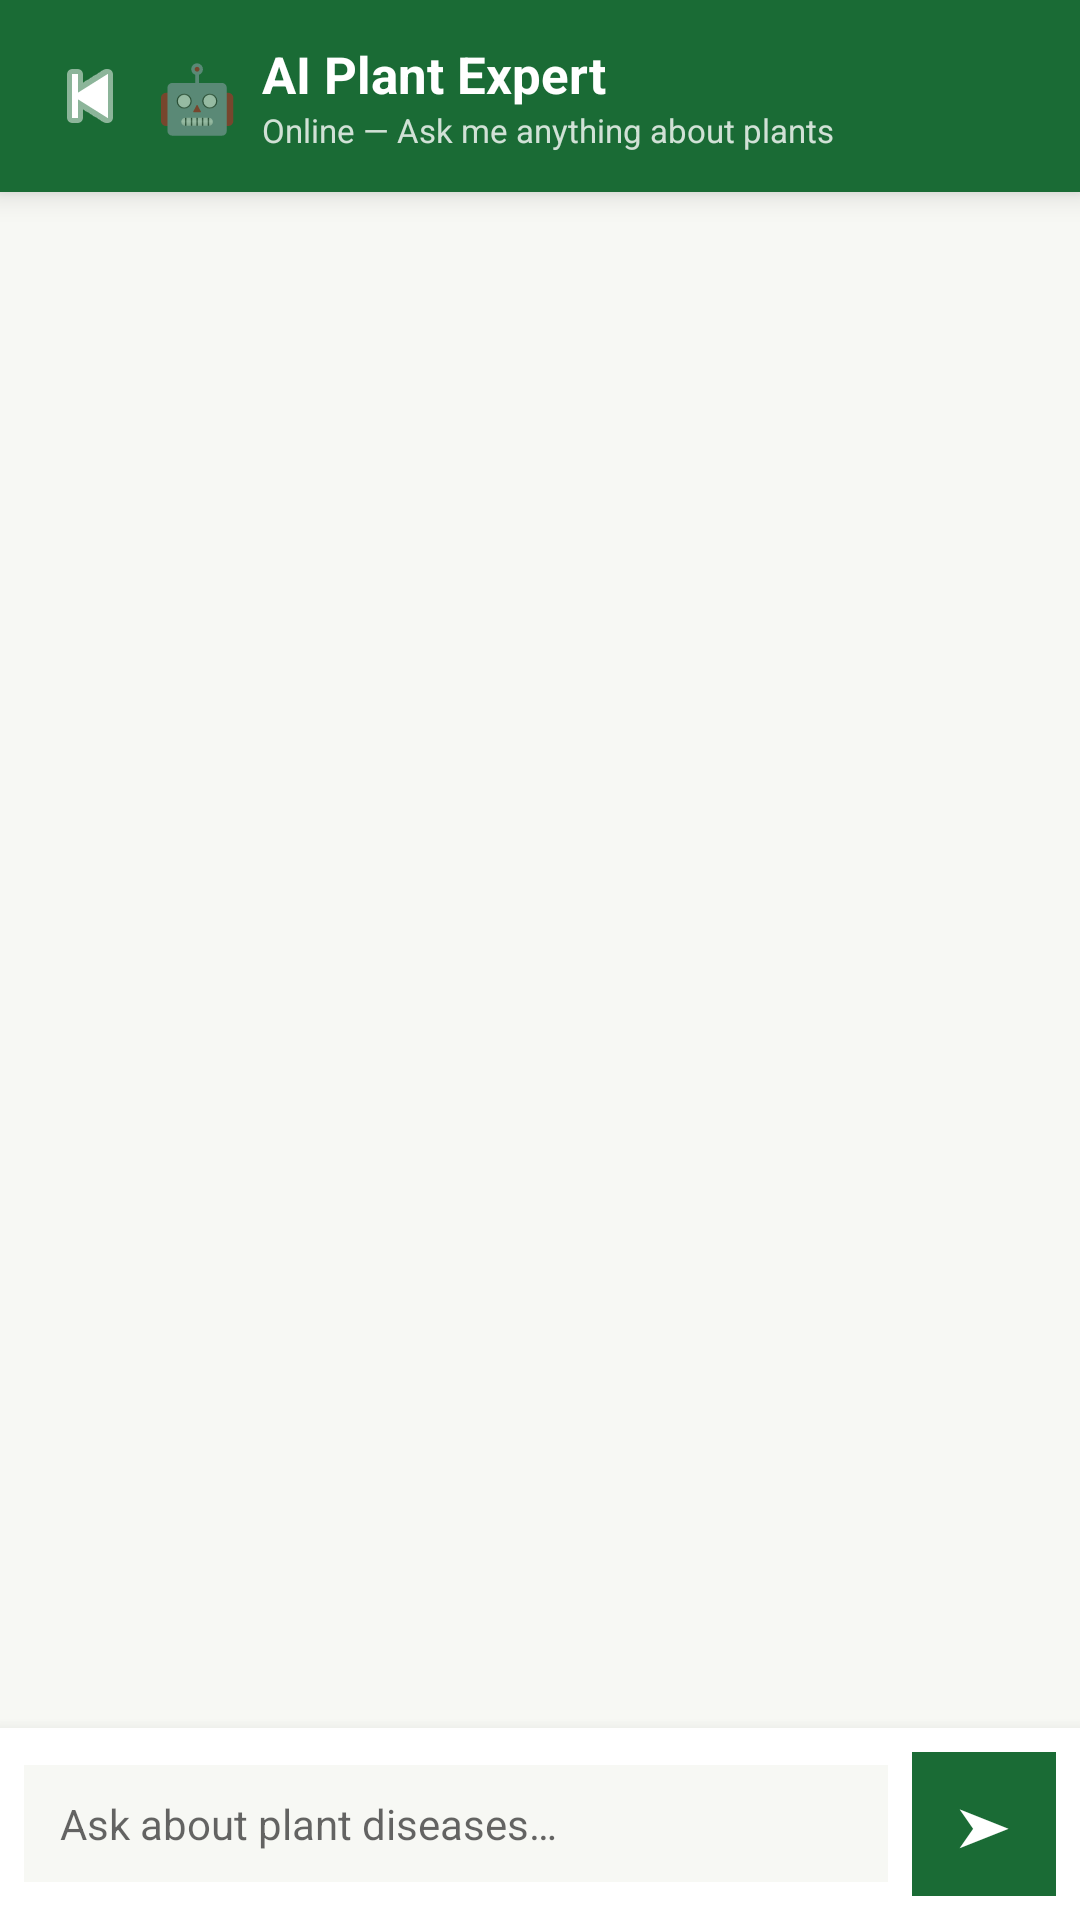

Locate icon controls on the screen. Image size 1080w x 1920h, boxes as (x1, y1, x2, y2).
previous: (67, 69, 113, 123)
